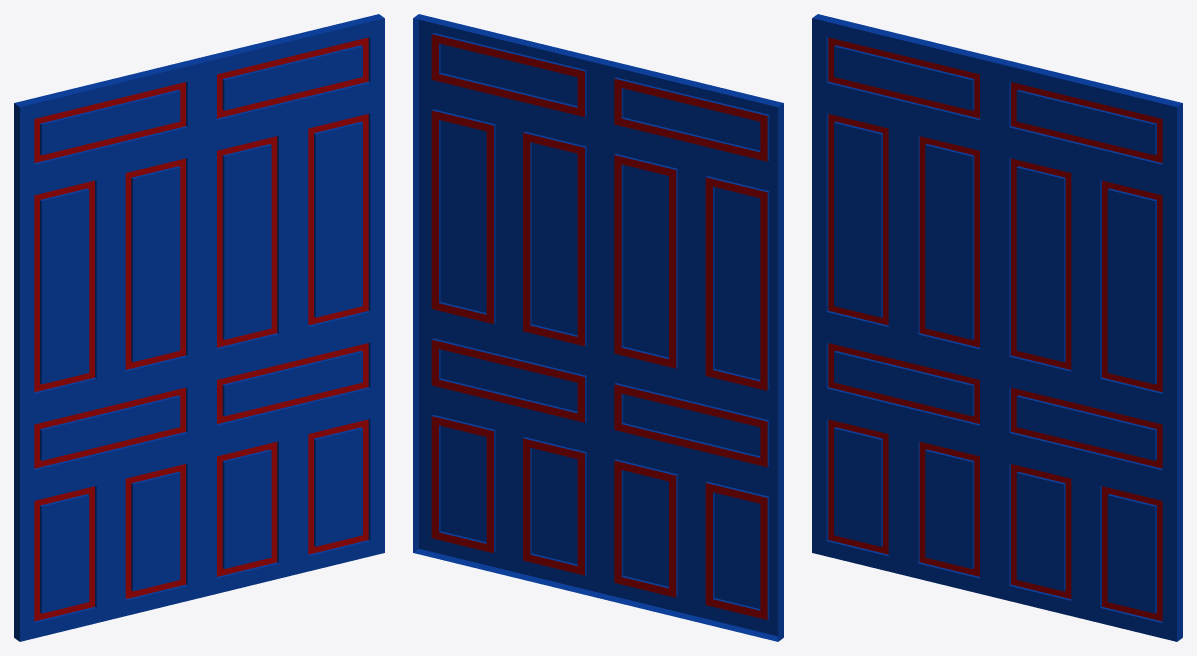
File: Door01.fbx
3 renders of one model, left to right at view 1: azimuth 30°, elevation 25°; view 2: azimuth 150°, elevation 25°; view 3: azimuth 330°, elevation 25°, orthographic.
Parts seen in each view (by area): view 1: Door01; view 2: Door01; view 3: Door01.
Boxes of the visible parts, bbox=[...] form: Door01: bbox=[14, 14, 384, 641]; Door01: bbox=[413, 14, 783, 641]; Door01: bbox=[812, 14, 1182, 641].
Size of the model in its own units: 250 by 350 by 6.8.
